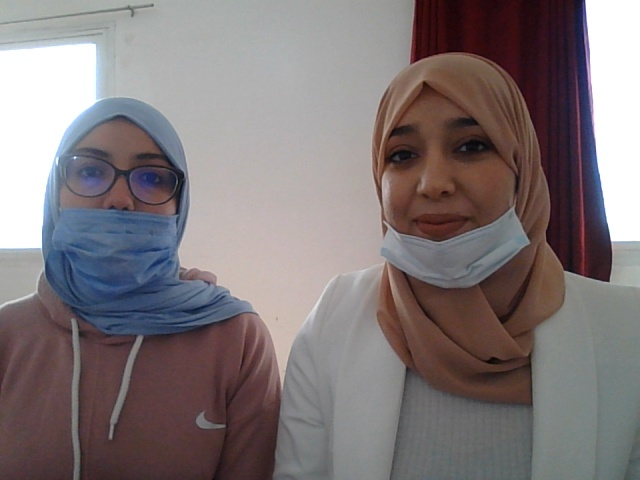mask_weared_incorrect: (363, 66, 535, 283), (44, 98, 192, 287)
